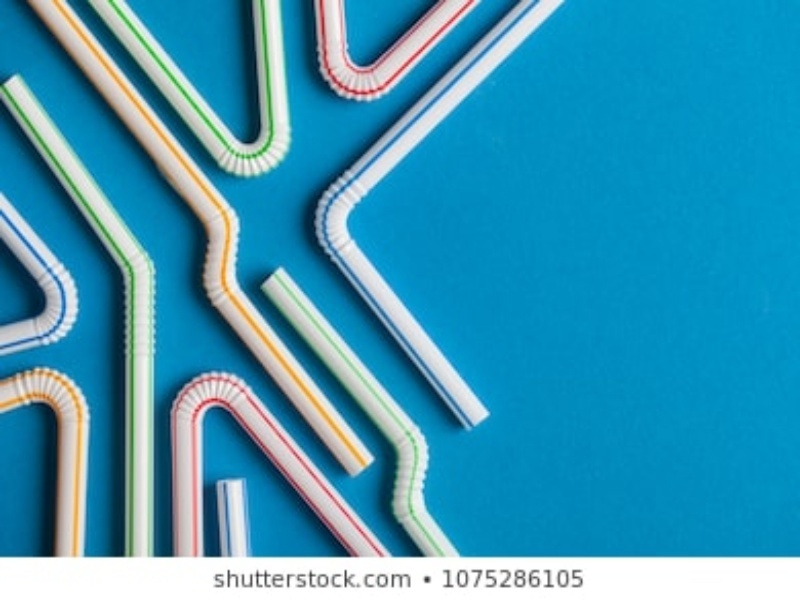straw: (21, 1, 375, 475), (311, 1, 570, 429), (2, 73, 160, 558), (258, 266, 492, 559), (170, 370, 390, 559), (88, 1, 295, 184), (314, 1, 485, 105), (1, 366, 92, 557), (1, 171, 80, 358), (211, 475, 259, 557)
